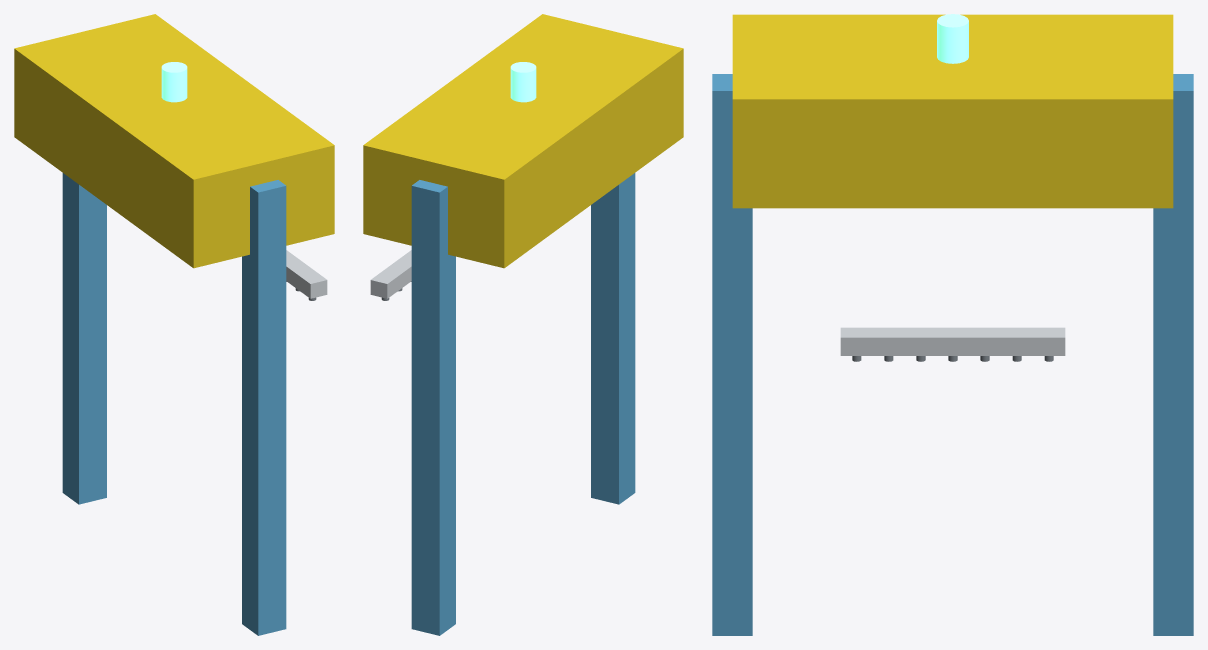
File: escaner_optico_plastico.glb
The picture shows the model from 3 angles, left to right: view 1: azimuth 30°, elevation 25°; view 2: azimuth 150°, elevation 25°; view 3: azimuth 270°, elevation 25°; orthographic projection. The views are drawn at different scales.
Parts seen in each view (by area): view 1: carcasa_sensores, poste_der, poste_izq, barra_boquillas, luz_estado; view 2: carcasa_sensores, poste_izq, poste_der, barra_boquillas, luz_estado; view 3: carcasa_sensores, poste_izq, poste_der, barra_boquillas, luz_estado.
Part boxes in pixels (<box>): carcasa_sensores: <box>14,14,334,268</box>; poste_der: <box>242,180,286,635</box>; poste_izq: <box>62,173,106,504</box>; barra_boquillas: <box>286,250,327,298</box>; luz_estado: <box>161,62,187,102</box>; carcasa_sensores: <box>363,14,683,268</box>; poste_izq: <box>411,180,455,635</box>; poste_der: <box>591,173,635,504</box>; barra_boquillas: <box>370,250,411,298</box>; luz_estado: <box>510,62,536,102</box>; carcasa_sensores: <box>732,14,1173,208</box>; poste_izq: <box>1153,74,1193,635</box>; poste_der: <box>712,74,752,635</box>; barra_boquillas: <box>840,327,1065,355</box>; luz_estado: <box>937,14,968,63</box>.
Bounding box in the file's own units: 0.63 × 1.67 × 1.2.
